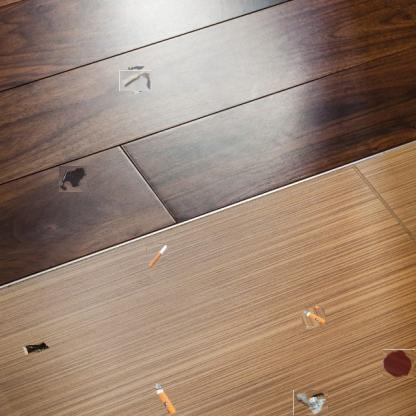dirty: (293, 389, 328, 415), (154, 383, 180, 415), (122, 67, 149, 94), (146, 243, 168, 267), (21, 340, 49, 356), (303, 306, 323, 327)
liquid: (384, 349, 416, 378), (59, 166, 87, 192)
